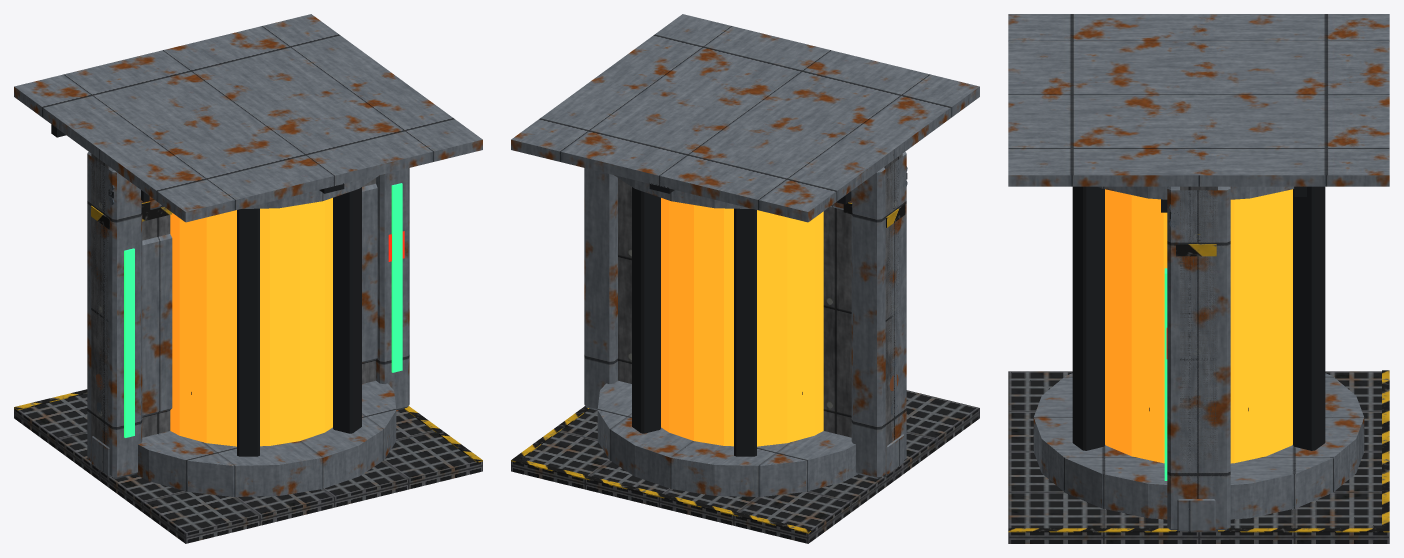
The model's file is kit.glb.
3 renders of one model, left to right at view 1: azimuth 30°, elevation 25°; view 2: azimuth 150°, elevation 25°; view 3: azimuth 270°, elevation 25°, orthographic. The views are drawn at different scales.
Parts seen in each view (by area): view 1: reactor, ceil, exitframe, floor, wall, doorframe; view 2: reactor, ceil, exitframe, floor, wall, doorframe; view 3: reactor, ceil, floor, doorframe, exitframe, wall.
Boxes of the visible parts, box(x1,y1,x2,y2) form: reactor: box(136, 175, 396, 496); ceil: box(14, 14, 482, 222); exitframe: box(87, 151, 409, 479); floor: box(14, 389, 482, 543); wall: box(91, 154, 398, 476); doorframe: box(88, 153, 404, 475); reactor: box(597, 175, 857, 496); ceil: box(511, 14, 979, 222); exitframe: box(584, 151, 906, 479); floor: box(511, 390, 979, 543); wall: box(618, 154, 907, 476); doorframe: box(615, 153, 905, 475); reactor: box(1033, 186, 1364, 519); ceil: box(1008, 14, 1389, 196); floor: box(1008, 370, 1389, 543); doorframe: box(1166, 186, 1223, 530); exitframe: box(1164, 186, 1230, 530); wall: box(1161, 186, 1217, 532).
Size of the model in its own units: 3.02 by 3.35 by 3.
Materials: 34 (6 with a texture image).
